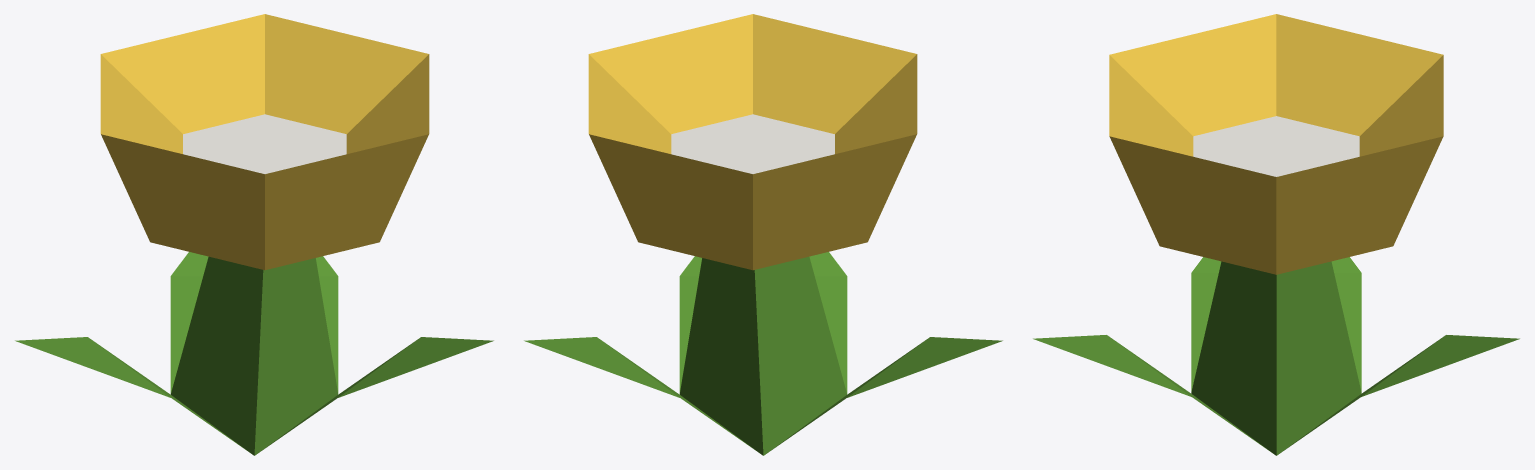
File: flower_yellow2.glb
The picture shows the model from 3 angles, left to right: view 1: azimuth 30°, elevation 25°; view 2: azimuth 150°, elevation 25°; view 3: azimuth 270°, elevation 25°; orthographic projection.
Parts seen in each view (by area): view 1: flower_yellowC; view 2: flower_yellowC; view 3: flower_yellowC.
Boxes of the visible parts, <box> form: flower_yellowC: <box>15,14,493,455</box>; flower_yellowC: <box>524,14,1002,455</box>; flower_yellowC: <box>1033,14,1519,455</box>.
Bounding box in the file's own units: 0.5452 × 0.4 × 0.5466.
